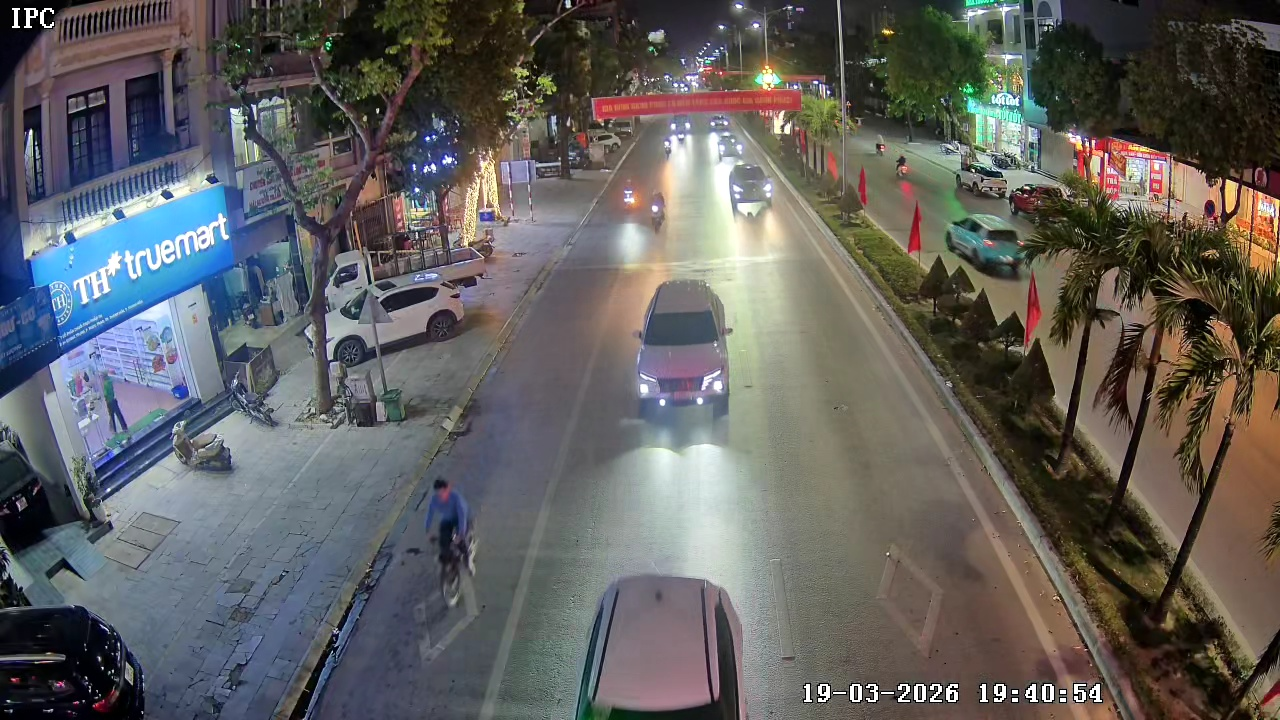bike: (421, 474, 483, 613)
car: (571, 571, 750, 719), (0, 603, 150, 719), (632, 277, 734, 421), (337, 266, 471, 359), (945, 211, 1029, 277), (728, 161, 776, 217), (717, 131, 746, 159)
motorbike: (173, 422, 238, 474), (617, 176, 642, 217), (649, 191, 667, 232), (657, 135, 675, 161)
